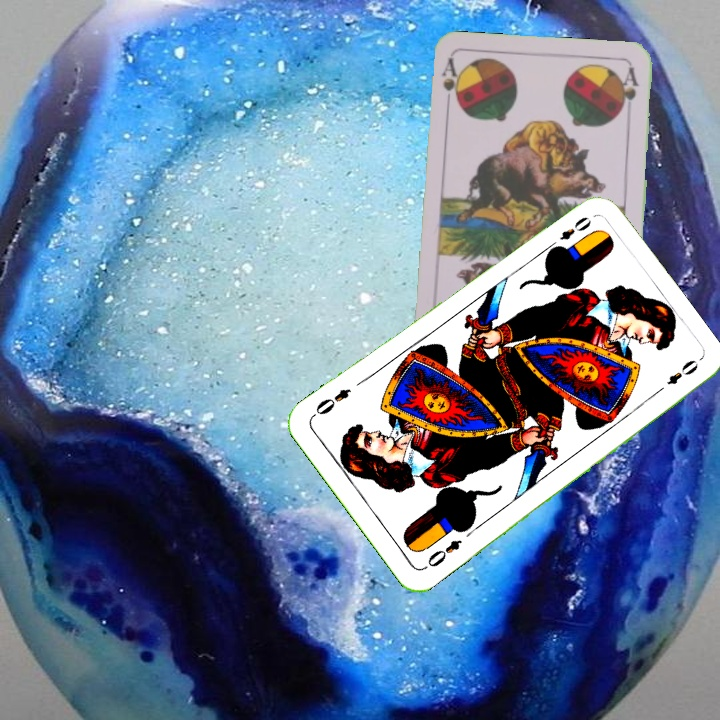EO: (544, 212, 595, 253), (420, 535, 465, 572)
SA: (438, 55, 461, 115)
